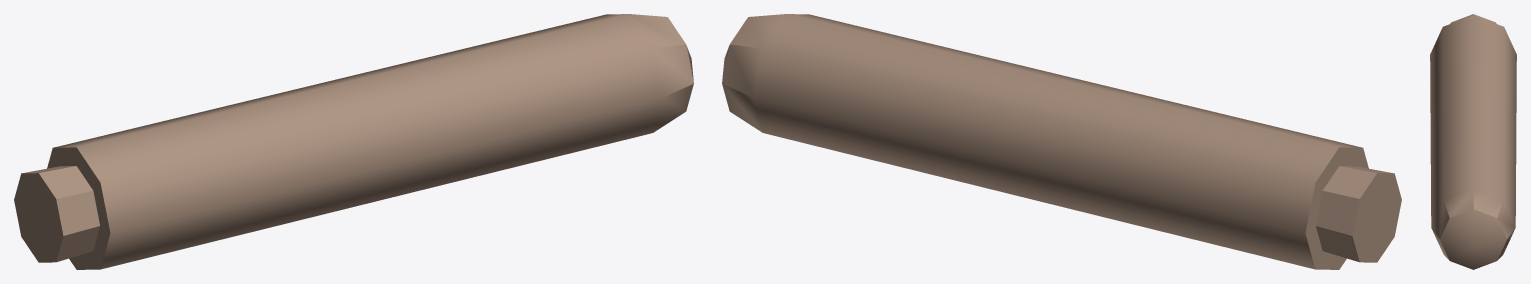
The model's file is Prop_Sm_SmallContainer_6_A.fbx.
3 views of the same model, side by side, from view 1: azimuth 30°, elevation 25°; view 2: azimuth 150°, elevation 25°; view 3: azimuth 270°, elevation 25° (orthographic). The views are drawn at different scales.
Visible parts, largest first — view 1: pCylinder23; view 2: pCylinder23; view 3: pCylinder23.
Boxes of the visible parts, x1,y1,x2,y2 form: pCylinder23: (14, 14, 693, 269); pCylinder23: (722, 14, 1401, 269); pCylinder23: (1430, 14, 1516, 269).
Bounding box in the file's own units: 0.3951 × 0.0709 × 0.0709.
